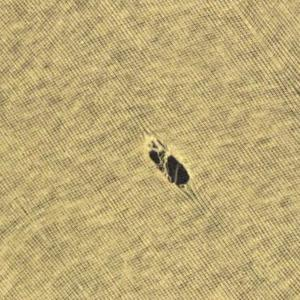hole: (143, 133, 193, 201)
